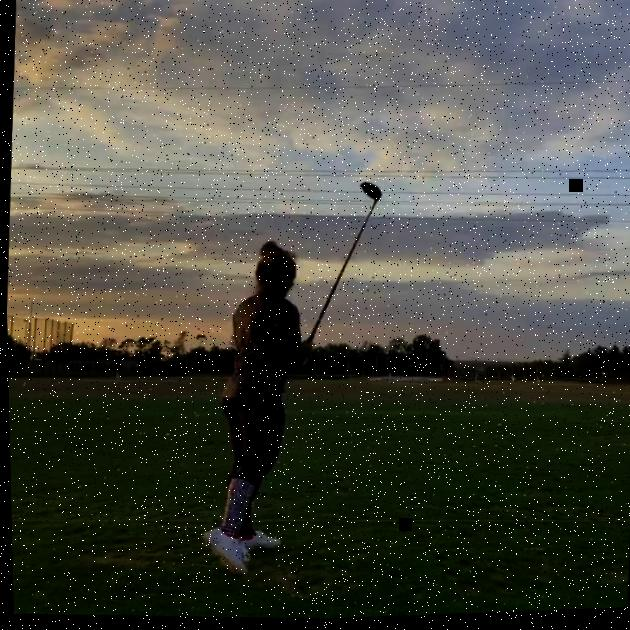ClubHead: (358, 184, 381, 204)
